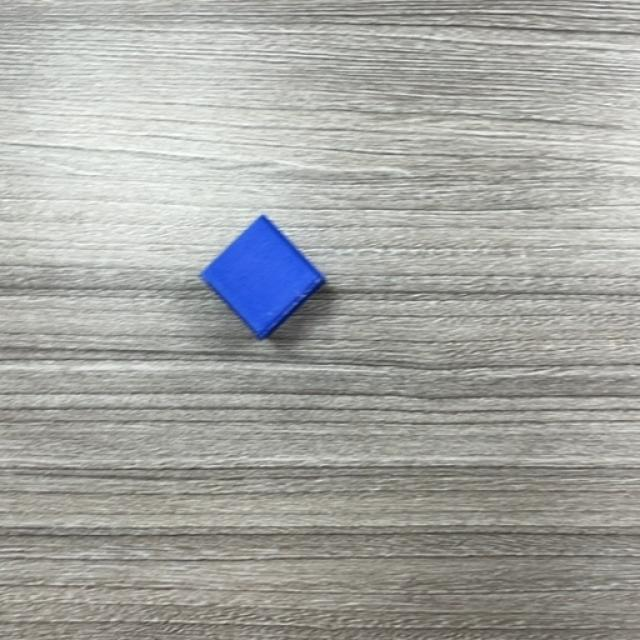Azul: (199, 215, 328, 341)
